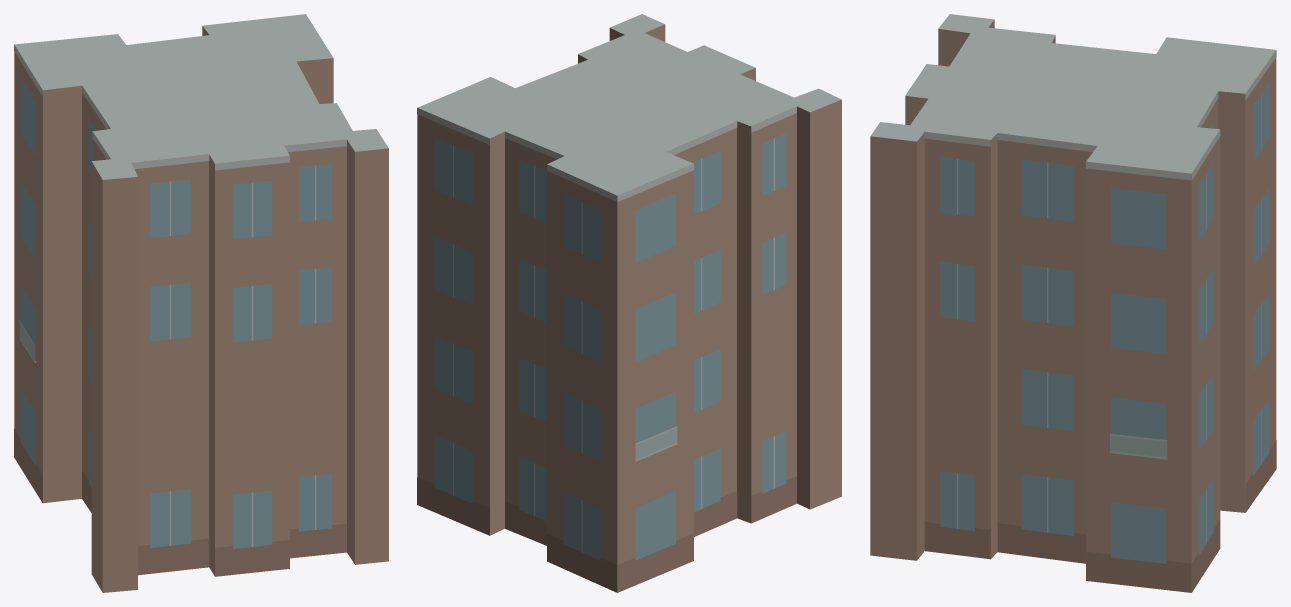
File: survey-upis-32806841.glb
The picture shows the model from 3 angles, left to right: view 1: azimuth 30°, elevation 25°; view 2: azimuth 150°, elevation 25°; view 3: azimuth 270°, elevation 25°; orthographic projection. The views are drawn at different scales.
Visible parts, largest first — view 1: survey-upis-32806841.tmp; view 2: survey-upis-32806841.tmp; view 3: survey-upis-32806841.tmp.
Boxes of the visible parts, <box> form: survey-upis-32806841.tmp: <box>14,14,388,592</box>; survey-upis-32806841.tmp: <box>417,14,841,592</box>; survey-upis-32806841.tmp: <box>870,14,1276,592</box>.
Bounding box in the file's own units: 12.18 × 14.9 × 13.09.
